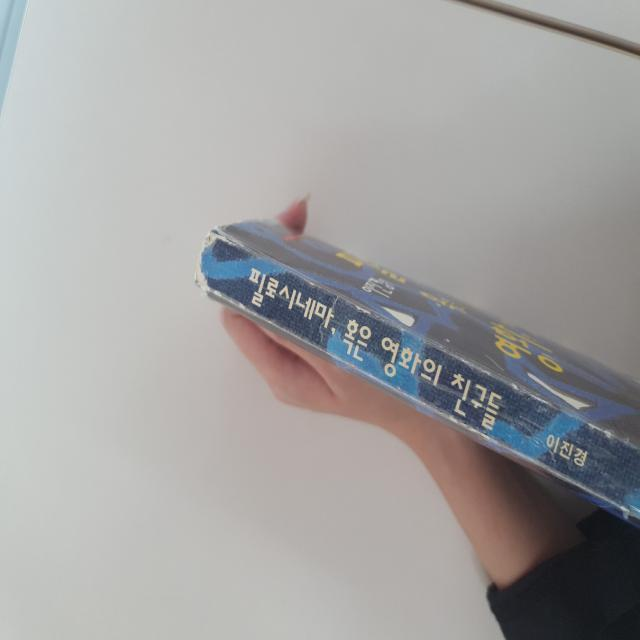Ripped: (187, 263, 250, 314), (448, 409, 490, 443), (208, 218, 246, 251)
Wornout: (509, 380, 558, 411), (353, 300, 387, 324), (460, 355, 494, 379), (583, 418, 617, 442), (190, 236, 210, 265), (616, 501, 632, 522), (306, 280, 324, 291)
